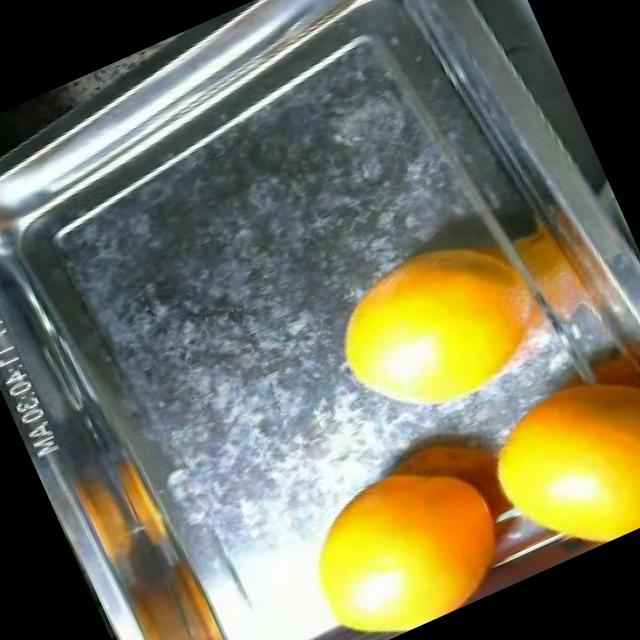Fruit: (290, 201, 572, 464), (265, 432, 518, 640)
